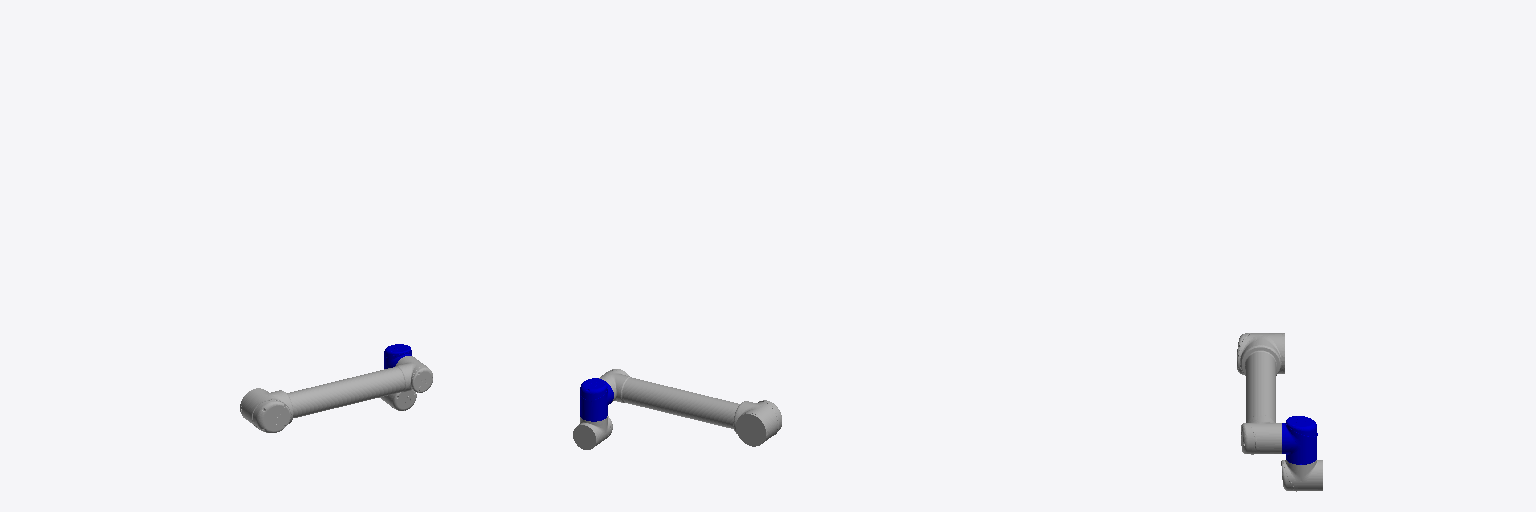
URDF robot description (ur10):
<?xml version="1.0" ?>
<!-- =================================================================================== -->
<!-- |    This document was autogenerated by xacro from ur10_joint_limited_robot.urdf.xacro | -->
<!-- |    EDITING THIS FILE BY HAND IS NOT RECOMMENDED                                 | -->
<!-- =================================================================================== -->
<robot name="ur10" xmlns:xacro="http://www.ros.org/wiki/xacro">
  <!-- common stuff -->
  <gazebo>
    <plugin filename="libgazebo_ros_control.so" name="ros_control">
      <!--robotNamespace>/</robotNamespace-->
      <!--robotSimType>gazebo_ros_control/DefaultRobotHWSim</robotSimType-->
    </plugin>
    <!--
    <plugin name="gazebo_ros_power_monitor_controller" filename="libgazebo_ros_power_monitor.so">
      <alwaysOn>true</alwaysOn>
      <updateRate>1.0</updateRate>
      <timeout>5</timeout>
      <powerStateTopic>power_state</powerStateTopic>
      <powerStateRate>10.0</powerStateRate>
      <fullChargeCapacity>87.78</fullChargeCapacity>     
      <dischargeRate>-474</dischargeRate>
      <chargeRate>525</chargeRate>
      <dischargeVoltage>15.52</dischargeVoltage>
      <chargeVoltage>16.41</chargeVoltage>
    </plugin>
-->
  </gazebo>
  <!-- ur10 -->
  <material name="UR/Blue">
    <color rgba="0.0 0.0 0.8 1.0"/>
  </material>
  <material name="UR/Grey">
    <color rgba="0.7 0.7 0.7 1.0"/>
  </material>
  <!-- arm -->
  <link name="base_link">
    <visual>
      <geometry>
        <mesh filename="package://ur_description/meshes/ur10/visual/Base.dae" scale="0.001 0.001 0.001"/>
      </geometry>
      <origin rpy="1.570796325 0.0 0.0" xyz="0.0 0.0 0.0"/>
      <material name="UR/Blue"/>
    </visual>
    <collision>
      <geometry>
        <mesh filename="package://ur_description/meshes/ur10/collision/Base.dae" scale="0.001 0.001 0.001"/>
      </geometry>
      <origin rpy="1.570796325 0.0 0.0" xyz="0.0 0.0 0.0"/>
    </collision>
    <inertial>
      <mass value="4.0"/>
      <inertia ixx="1.0" ixy="0.0" ixz="0.0" iyy="1.0" iyz="0.0" izz="1.0"/>
    </inertial>
  </link>
  <joint name="shoulder_pan_joint" type="revolute">
    <parent link="base_link"/>
    <child link="shoulder_link"/>
    <origin rpy="0.0 0.0 0.0" xyz="0.0 0.0 0.1273"/>
    <axis xyz="0.0 0.0 1.0"/>
    <limit effort="330.0" lower="-3.14159265" upper="3.14159265" velocity="2.16"/>
    <dynamics damping="10" friction="0.1"/>
  </joint>
  <link name="shoulder_link">
    <visual>
      <geometry>
        <mesh filename="package://ur_description/meshes/ur10/visual/Shoulder.dae" scale="0.001 0.001 0.001"/>
      </geometry>
      <origin rpy="1.570796325 0.0 0.0" xyz="0.0 0.0 -0.127"/>
      <!-- -0.127 ????  -->
      <material name="UR/Grey"/>
    </visual>
    <collision>
      <geometry>
        <mesh filename="package://ur_description/meshes/ur10/collision/Shoulder.dae" scale="0.001 0.001 0.001"/>
      </geometry>
      <origin rpy="1.570796325 0.0 0.0" xyz="0.0 0.0 -0.127"/>
      <!-- -0.127 ????  -->
    </collision>
    <inertial>
      <mass value="7.778"/>
      <inertia ixx="1.0" ixy="0.0" ixz="0.0" iyy="1.0" iyz="0.0" izz="1.0"/>
      <origin rpy="0.0 0.0 0.0" xyz="0.00008 0.00244 -0.037"/>
    </inertial>
  </link>
  <joint name="shoulder_lift_joint" type="revolute">
    <parent link="shoulder_link"/>
    <child link="upper_arm_link"/>
    <origin rpy="0.0 1.570796325 0.0" xyz="0.0 0.220941 0.0"/>
    <axis xyz="0.0 1.0 0.0"/>
    <limit effort="330.0" lower="-3.14159265" upper="3.14159265" velocity="2.16"/>
    <dynamics damping="10" friction="0.1"/>
  </joint>
  <link name="upper_arm_link">
    <visual>
      <geometry>
        <mesh filename="package://ur_description/meshes/ur10/visual/UpperArm.dae" scale="0.001 0.001 0.001"/>
      </geometry>
      <origin rpy="1.570796325 0.0 0.0" xyz="0.0 -0.221 -0.127"/>
      <!-- new offset-->
      <material name="UR/Blue"/>
    </visual>
    <collision>
      <geometry>
        <mesh filename="package://ur_description/meshes/ur10/collision/UpperArm.dae" scale="0.001 0.001 0.001"/>
      </geometry>
      <origin rpy="1.570796325 0.0 0.0" xyz="0.0 -0.221 -0.127"/>
      <!-- new offset-->
    </collision>
    <inertial>
      <mass value="12.93"/>
      <inertia ixx="1.0" ixy="0.0" ixz="0.0" iyy="1.0" iyz="0.0" izz="1.0"/>
      <origin rpy="0.0 0.0 0.0" xyz="0.00001 0.15061 0.38757"/>
    </inertial>
  </link>
  <joint name="elbow_joint" type="revolute">
    <parent link="upper_arm_link"/>
    <child link="forearm_link"/>
    <origin rpy="0.0 0.0 0.0" xyz="0.0 -0.1719 0.612"/>
    <axis xyz="0.0 1.0 0.0"/>
    <limit effort="150.0" lower="-3.14159265" upper="3.14159265" velocity="3.15"/>
    <dynamics damping="10" friction="0.1"/>
  </joint>
  <link name="forearm_link">
    <visual>
      <geometry>
        <mesh filename="package://ur_description/meshes/ur10/visual/Forearm.dae" scale="0.001 0.001 0.001"/>
      </geometry>
      <origin rpy="1.570796325 0.0 0.0" xyz="0.0 -0.049 -0.739"/>
      <!-- new offset -->
      <material name="UR/Grey"/>
    </visual>
    <collision>
      <geometry>
        <mesh filename="package://ur_description/meshes/ur10/collision/Forearm.dae" scale="0.001 0.001 0.001"/>
      </geometry>
      <origin rpy="1.570796325 0.0 0.0" xyz="0.0 -0.049 -0.739"/>
      <!-- new offset -->
    </collision>
    <inertial>
      <mass value="3.87"/>
      <origin rpy="0.0 0.0 0.0" xyz="-0.00012 0.06112 0.1984"/>
      <inertia ixx="1.0" ixy="0.0" ixz="0.0" iyy="1.0" iyz="0.0" izz="1.0"/>
    </inertial>
  </link>
  <joint name="wrist_1_joint" type="revolute">
    <parent link="forearm_link"/>
    <child link="wrist_1_link"/>
    <origin rpy="0.0 1.570796325 0.0" xyz="0.0 0.0 0.5723"/>
    <axis xyz="0.0 1.0 0.0"/>
    <limit effort="54.0" lower="-3.14159265" upper="3.14159265" velocity="3.2"/>
    <dynamics damping="10" friction="0.1"/>
  </joint>
  <link name="wrist_1_link">
    <visual>
      <geometry>
        <mesh filename="package://ur_description/meshes/ur10/visual/Wrist1.dae" scale="0.001 0.001 0.001"/>
      </geometry>
      <origin rpy="1.570796325 0 0.0" xyz="0.0 -0.049 -1.312"/>
      <!-- new offset -->
      <material name="UR/Blue"/>
    </visual>
    <collision>
      <geometry>
        <mesh filename="package://ur_description/meshes/ur10/collision/Wrist1.dae" scale="0.001 0.001 0.001"/>
      </geometry>
      <origin rpy="1.570796325 0 0.0" xyz="0.0 -0.049 -1.312"/>
      <!-- new offset -->
    </collision>
    <inertial>
      <mass value="1.96"/>
      <origin rpy="0.0 0.0 0.0" xyz="-0.00021 -0.00112 0.02269"/>
      <inertia ixx="1.0" ixy="0.0" ixz="0.0" iyy="1.0" iyz="0.0" izz="1.0"/>
    </inertial>
  </link>
  <joint name="wrist_2_joint" type="revolute">
    <parent link="wrist_1_link"/>
    <child link="wrist_2_link"/>
    <origin rpy="0.0 0.0 0.0" xyz="0.0 0.1149 0.0"/>
    <axis xyz="0.0 0.0 1.0"/>
    <limit effort="54.0" lower="-3.14159265" upper="3.14159265" velocity="3.2"/>
    <dynamics damping="10" friction="0.1"/>
  </joint>
  <link name="wrist_2_link">
    <visual>
      <geometry>
        <mesh filename="package://ur_description/meshes/ur10/visual/Wrist2.dae" scale="0.001 0.001 0.001"/>
      </geometry>
      <origin rpy="1.570796325 0.0 0.0" xyz="0.0 -0.164 -1.312"/>
      <!-- new offset -->
      <material name="UR/Grey"/>
    </visual>
    <collision>
      <geometry>
        <mesh filename="package://ur_description/meshes/ur10/collision/Wrist2.dae" scale="0.001 0.001 0.001"/>
      </geometry>
      <origin rpy="1.570796325 0.0 0.0" xyz="0.0 -0.164 -1.312"/>
      <!-- new offset -->
    </collision>
    <inertial>
      <mass value="1.96"/>
      <origin rpy="0.0 0.0 0.0" xyz="-0.00021 0.00112 0.002269"/>
      <inertia ixx="1.0" ixy="0.0" ixz="0.0" iyy="1.0" iyz="0.0" izz="1.0"/>
    </inertial>
  </link>
  <joint name="wrist_3_joint" type="revolute">
    <parent link="wrist_2_link"/>
    <child link="wrist_3_link"/>
    <origin rpy="0.0 0.0 0.0" xyz="0.0 0.0 0.1157"/>
    <axis xyz="0.0 1.0 0.0"/>
    <limit effort="54.0" lower="-3.14159265" upper="3.14159265" velocity="3.2"/>
    <dynamics damping="10" friction="0.1"/>
  </joint>
  <link name="wrist_3_link">
    <visual>
      <geometry>
        <mesh filename="package://ur_description/meshes/ur10/visual/Wrist3.dae" scale="0.001 0.001 0.001"/>
      </geometry>
      <origin rpy="1.570796325 0.0 0" xyz="0.0 -0.164 -1.427"/>
      <!-- new offset -->
      <material name="UR/Blue"/>
    </visual>
    <collision>
      <geometry>
        <mesh filename="package://ur_description/meshes/ur10/collision/Wrist3.dae" scale="0.001 0.001 0.001"/>
      </geometry>
      <origin rpy="1.570796325 0.0 0" xyz="0.0 -0.164 -1.427"/>
      <!-- new offset -->
    </collision>
    <inertial>
      <mass value="0.202"/>
      <origin rpy="0.0 0.0 0.0" xyz="0 -0.001156 -0.00149"/>
      <inertia ixx="1.0" ixy="0.0" ixz="0.0" iyy="1.0" iyz="0.0" izz="1.0"/>
    </inertial>
  </link>
  <joint name="ee_fixed_joint" type="fixed">
    <parent link="wrist_3_link"/>
    <child link="ee_link"/>
    <origin rpy="0.0 0.0 1.570796325" xyz="0.0 0.0922 0.0"/>
  </joint>
  <link name="ee_link"/>
  <transmission name="shoulder_pan_trans">
    <type>transmission_interface/SimpleTransmission</type>
    <joint name="shoulder_pan_joint"/>
    <actuator name="shoulder_pan_motor">
      <hardwareInterface>EffortJointInterface</hardwareInterface>
      <mechanicalReduction>1</mechanicalReduction>
    </actuator>
  </transmission>
  <transmission name="shoulder_lift_trans">
    <type>transmission_interface/SimpleTransmission</type>
    <joint name="shoulder_lift_joint"/>
    <actuator name="shoulder_lift_motor">
      <hardwareInterface>EffortJointInterface</hardwareInterface>
      <mechanicalReduction>1</mechanicalReduction>
    </actuator>
  </transmission>
  <transmission name="elbow_trans">
    <type>transmission_interface/SimpleTransmission</type>
    <joint name="elbow_joint"/>
    <actuator name="elbow_motor">
      <hardwareInterface>EffortJointInterface</hardwareInterface>
      <mechanicalReduction>1</mechanicalReduction>
    </actuator>
  </transmission>
  <transmission name="wrist_1_trans">
    <type>transmission_interface/SimpleTransmission</type>
    <joint name="wrist_1_joint"/>
    <actuator name="wrist_1_motor">
      <hardwareInterface>EffortJointInterface</hardwareInterface>
      <mechanicalReduction>1</mechanicalReduction>
    </actuator>
  </transmission>
  <transmission name="wrist_2_trans">
    <type>transmission_interface/SimpleTransmission</type>
    <joint name="wrist_2_joint"/>
    <actuator name="wrist_2_motor">
      <hardwareInterface>EffortJointInterface</hardwareInterface>
      <mechanicalReduction>1</mechanicalReduction>
    </actuator>
  </transmission>
  <transmission name="wrist_3_trans">
    <type>transmission_interface/SimpleTransmission</type>
    <joint name="wrist_3_joint"/>
    <actuator name="wrist_3_motor">
      <hardwareInterface>EffortJointInterface</hardwareInterface>
      <mechanicalReduction>1</mechanicalReduction>
    </actuator>
  </transmission>
  <gazebo reference="base_link">
    <material value="Gazebo/Grey"/>
    <turnGravityOff>false</turnGravityOff>
  </gazebo>
  <gazebo reference="shoulder_pan_link">
    <material value="Gazebo/Blue "/>
    <turnGravityOff>false</turnGravityOff>
  </gazebo>
  <gazebo reference="shoulder_lift_link">
    <material value="Gazebo/Grey"/>
    <turnGravityOff>false</turnGravityOff>
  </gazebo>
  <gazebo reference="elbow_link">
    <material value="Gazebo/Blue "/>
    <turnGravityOff>false</turnGravityOff>
  </gazebo>
  <gazebo reference="wrist_1_link">
    <material value="Gazebo/Grey"/>
    <turnGravityOff>false</turnGravityOff>
  </gazebo>
  <gazebo reference="wrist_2_link">
    <material value="Gazebo/Blue "/>
    <turnGravityOff>false</turnGravityOff>
  </gazebo>
  <gazebo reference="wrist_3_link">
    <material value="Gazebo/Grey"/>
    <turnGravityOff>false</turnGravityOff>
  </gazebo>
  <!-- grounding link (needed for MoveIt! compatability -->
  <link name="world">
  </link>
  <joint name="world_joint" type="fixed">
    <parent link="world"/>
    <child link="base_link"/>
    <origin rpy="0.0 0.0 0.0" xyz="0.0 0.0 0.0"/>
  </joint>
</robot>

--- What the picture shows (computed from the rendered views, not written in the file) ---
Views: 3 orthographic renders of the robot side by side, from view 1: azimuth 30°, elevation 25°; view 2: azimuth 150°, elevation 25°; view 3: azimuth 270°, elevation 25°.
Model ur10 with 9 links and 8 joints (6 revolute, 2 fixed), rooted at world, posed all joints at 0.
Visible links, largest first — view 1: forearm_link; view 2: forearm_link, wrist_1_link, wrist_2_link; view 3: forearm_link, wrist_1_link, wrist_2_link.
Boxes of the visible links, x1=… form: forearm_link: x1=240, y1=356, x2=432, y2=432; forearm_link: x1=599, y1=369, x2=781, y2=446; wrist_1_link: x1=580, y1=378, x2=613, y2=421; wrist_2_link: x1=573, y1=416, x2=612, y2=449; forearm_link: x1=1237, y1=333, x2=1284, y2=454; wrist_1_link: x1=1282, y1=416, x2=1317, y2=464; wrist_2_link: x1=1281, y1=460, x2=1322, y2=491.
Bounding box of the posed robot: 1.36 × 0.2454 × 1.47 m (x, y, z).
7 mesh visuals loaded from 7 distinct referenced files (7 Collada DAE).
